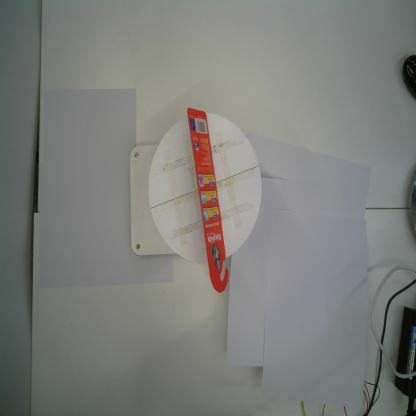Personal Hygiene: (186, 107, 230, 293)
